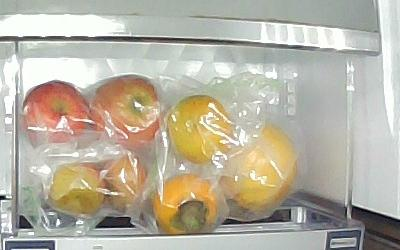apple_vinyl: (92, 74, 161, 154), (21, 81, 91, 150)
grapefruit_vinyl: (227, 122, 298, 216)
persimmon_vinyl: (168, 95, 232, 165), (152, 174, 220, 237)
prune_vinyl: (47, 162, 106, 214), (99, 152, 149, 213)
